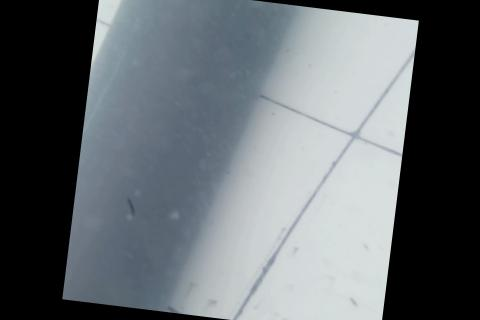keretakan: (121, 197, 140, 217)
